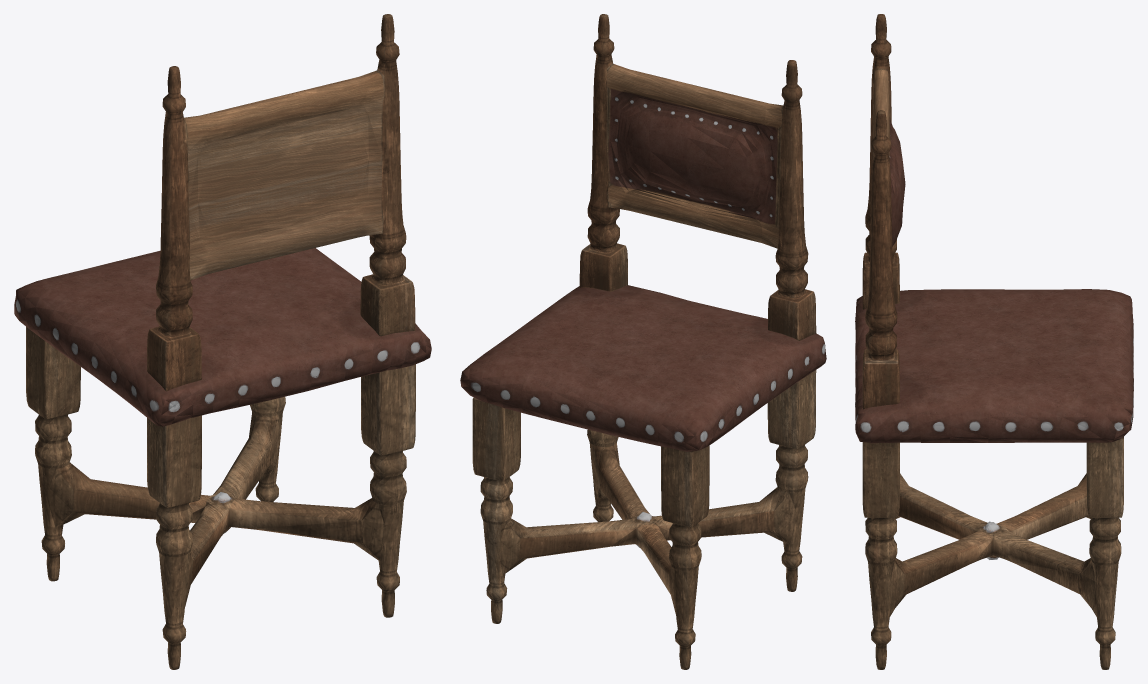
Rendered from SM_Chair.fbx.
3 views of the same model, side by side, from view 1: azimuth 30°, elevation 25°; view 2: azimuth 150°, elevation 25°; view 3: azimuth 270°, elevation 25° (orthographic). The views are drawn at different scales.
Parts seen in each view (by area): view 1: SCAUN_LP_export; view 2: SCAUN_LP_export; view 3: SCAUN_LP_export.
Part boxes in pixels (x1=…): SCAUN_LP_export: x1=14, y1=14, x2=431, y2=669; SCAUN_LP_export: x1=460, y1=14, x2=826, y2=669; SCAUN_LP_export: x1=855, y1=14, x2=1133, y2=669.
Bounding box in the file's own units: 0.3837 × 0.7977 × 0.3617.
